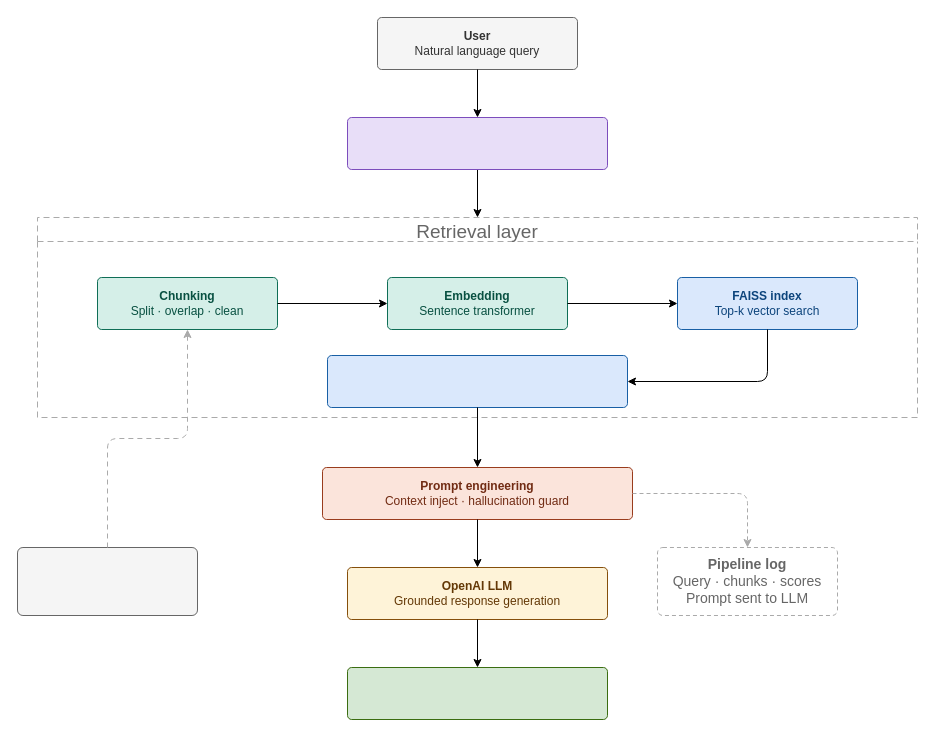
The diagram is 935 pixels wide and 737 high, and some of its shapes have lost their labels. The centre of each missing label's shape, as x and y in pixels:
Data sources Budget PDF 2025 Election CSV 2020: point (107, 581)
Final response Rendered in Streamlit UI: point (477, 693)
Retrieved chunks + scores Ranked by cosine similarity: point (477, 381)
Streamlit UI Query input · results display: point (477, 143)
